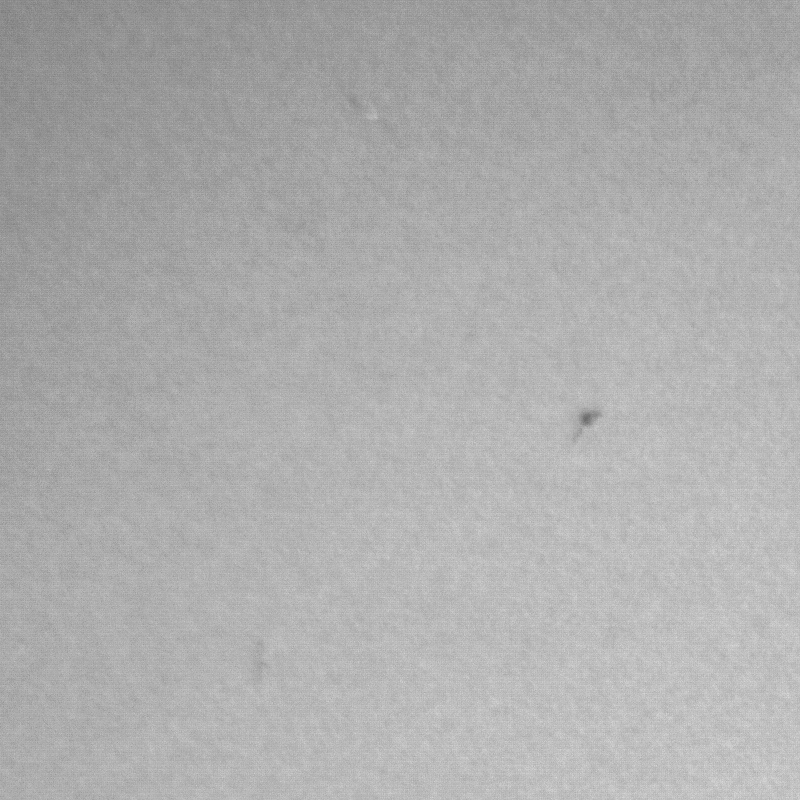defect: (345, 98, 381, 124), (578, 402, 598, 440)
